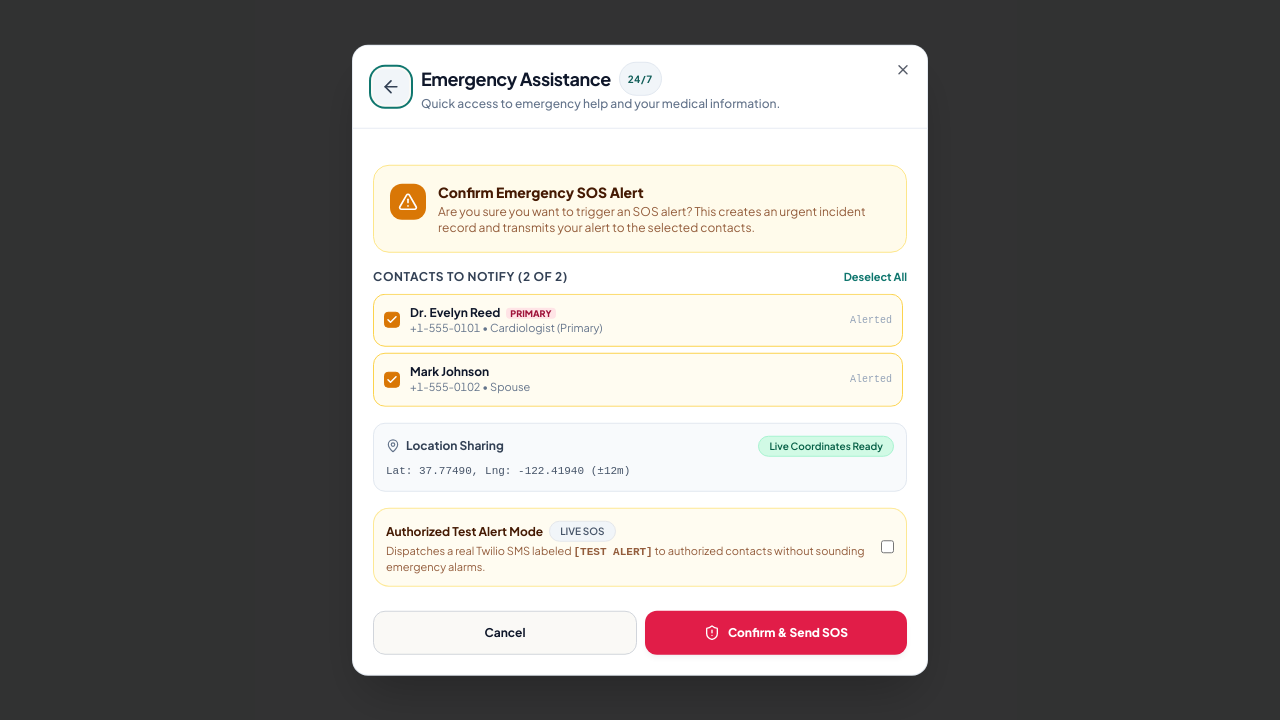
Test: EmergencyModal — Global SOS Dialog & Safety Workflows › SOS gracefully handles HTTP 429 duplicate submission throttle
expect the heading "Confirm Emergency SOS Alert" is shown: met, box top-left (438, 183), bottom-right (644, 201)
Click the button "Confirm & Send SOS" at (776, 632), box top-left (645, 610), bottom-right (907, 654)
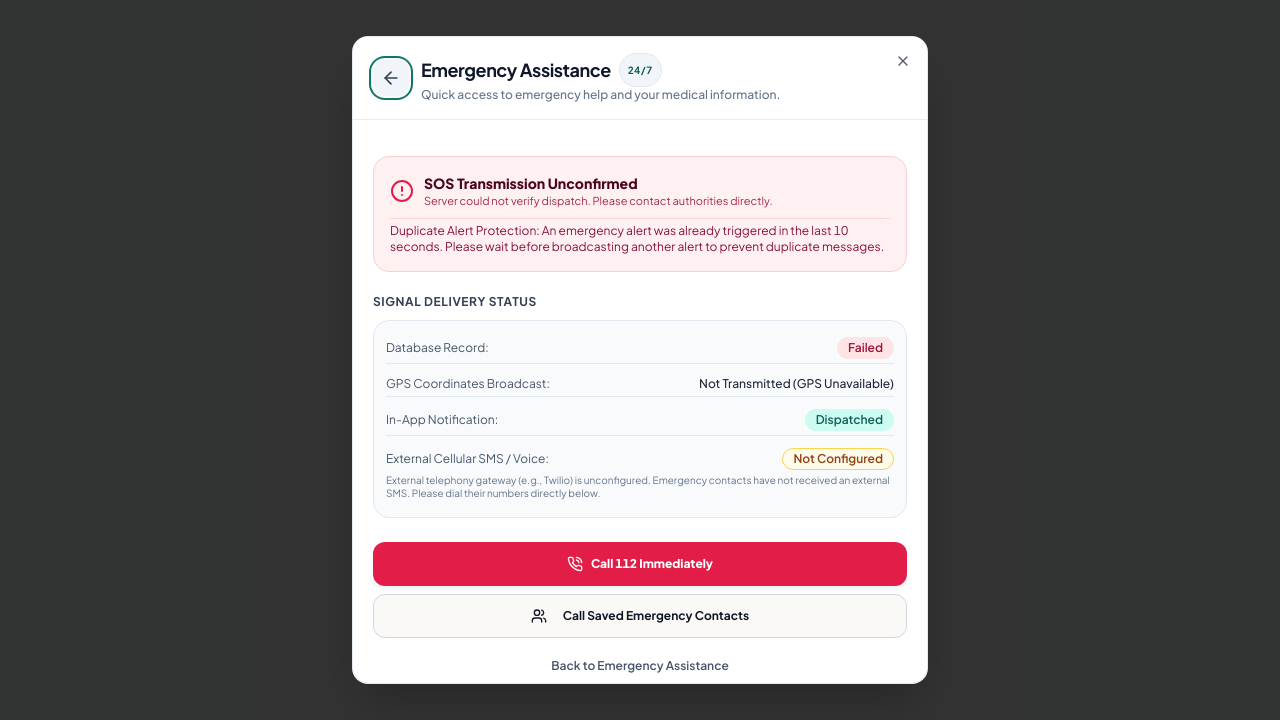
expect the heading "SOS Transmission Unconfirmed" is shown: met, box top-left (424, 174), bottom-right (638, 192)
expect the text "Duplicate Alert Protection" is shown: met, box top-left (390, 222), bottom-right (884, 254)
